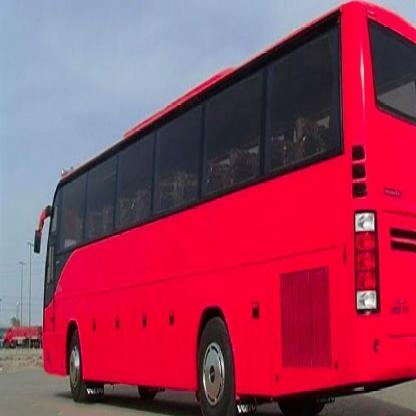Bus: (38, 0, 416, 416)
Truck: (0, 322, 43, 348)
